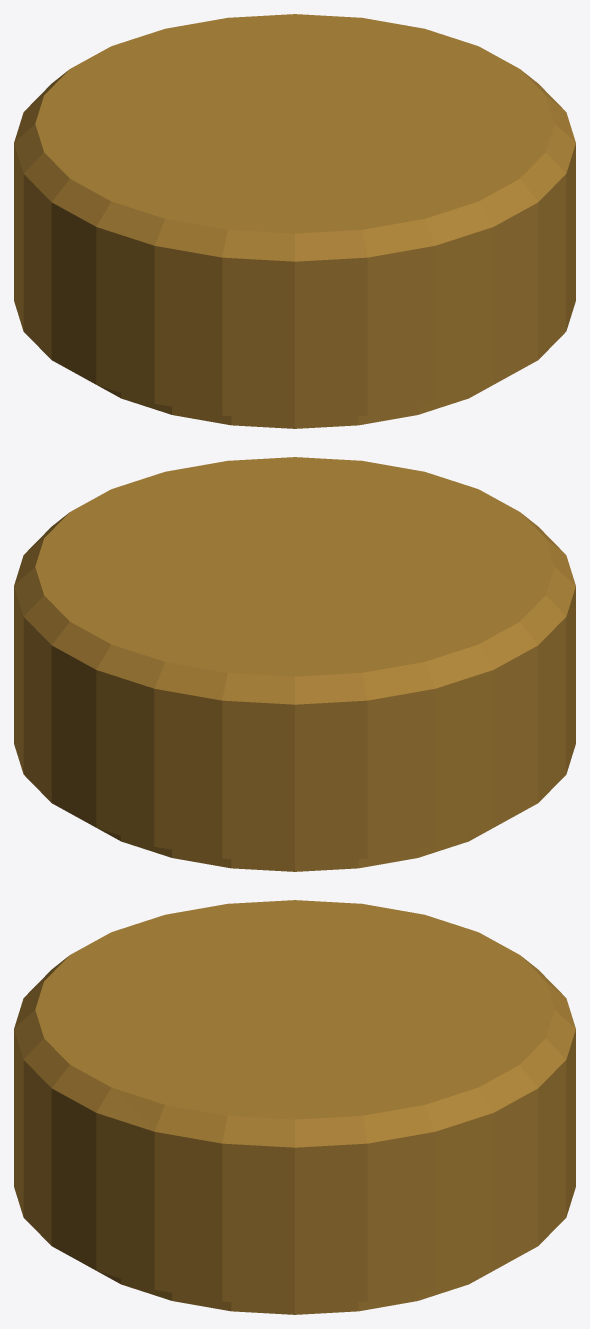
File: 1x1 Plate Circle.dae
3 views of the same model, one above another, from view 1: azimuth 30°, elevation 25°; view 2: azimuth 150°, elevation 25°; view 3: azimuth 270°, elevation 25° (orthographic).
Visible parts, largest first — view 1: Part.0; view 2: Part.0; view 3: Part.0.
Part boxes in pixels (left/top/right/bottom): Part.0: left=14, top=14, right=575, bottom=428; Part.0: left=14, top=457, right=575, bottom=871; Part.0: left=14, top=900, right=575, bottom=1314.
Size of the model in its own units: 8 by 3.16 by 8.
